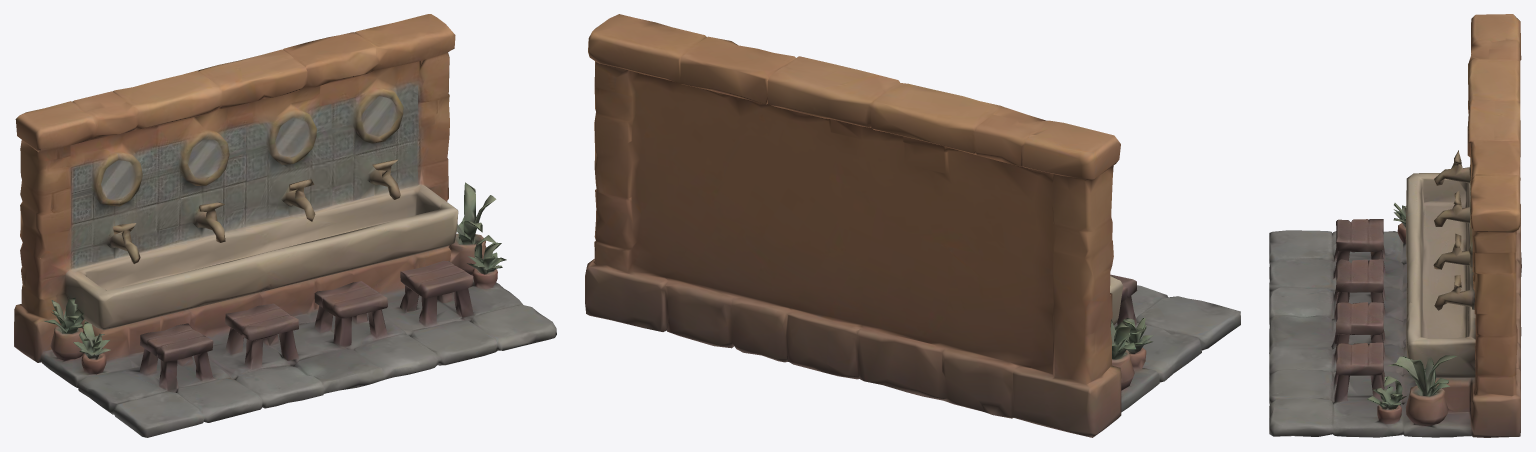
The model's file is mosque_ablution.glb.
3 renders of one model, left to right at view 1: azimuth 30°, elevation 25°; view 2: azimuth 150°, elevation 25°; view 3: azimuth 270°, elevation 25°, orthographic. The views are drawn at different scales.
Visible parts, largest first — view 1: tripo_node_4338ff45-f626-4fb6-a065-69aa1ab71ff9; view 2: tripo_node_4338ff45-f626-4fb6-a065-69aa1ab71ff9; view 3: tripo_node_4338ff45-f626-4fb6-a065-69aa1ab71ff9.
Part boxes in pixels (left/top/right/bottom): tripo_node_4338ff45-f626-4fb6-a065-69aa1ab71ff9: left=14, top=14, right=556, bottom=437; tripo_node_4338ff45-f626-4fb6-a065-69aa1ab71ff9: left=585, top=14, right=1240, bottom=437; tripo_node_4338ff45-f626-4fb6-a065-69aa1ab71ff9: left=1269, top=14, right=1521, bottom=437.
Bounding box in the file's own units: 1 × 0.5186 × 0.5217.
1 material, 1 textured.
